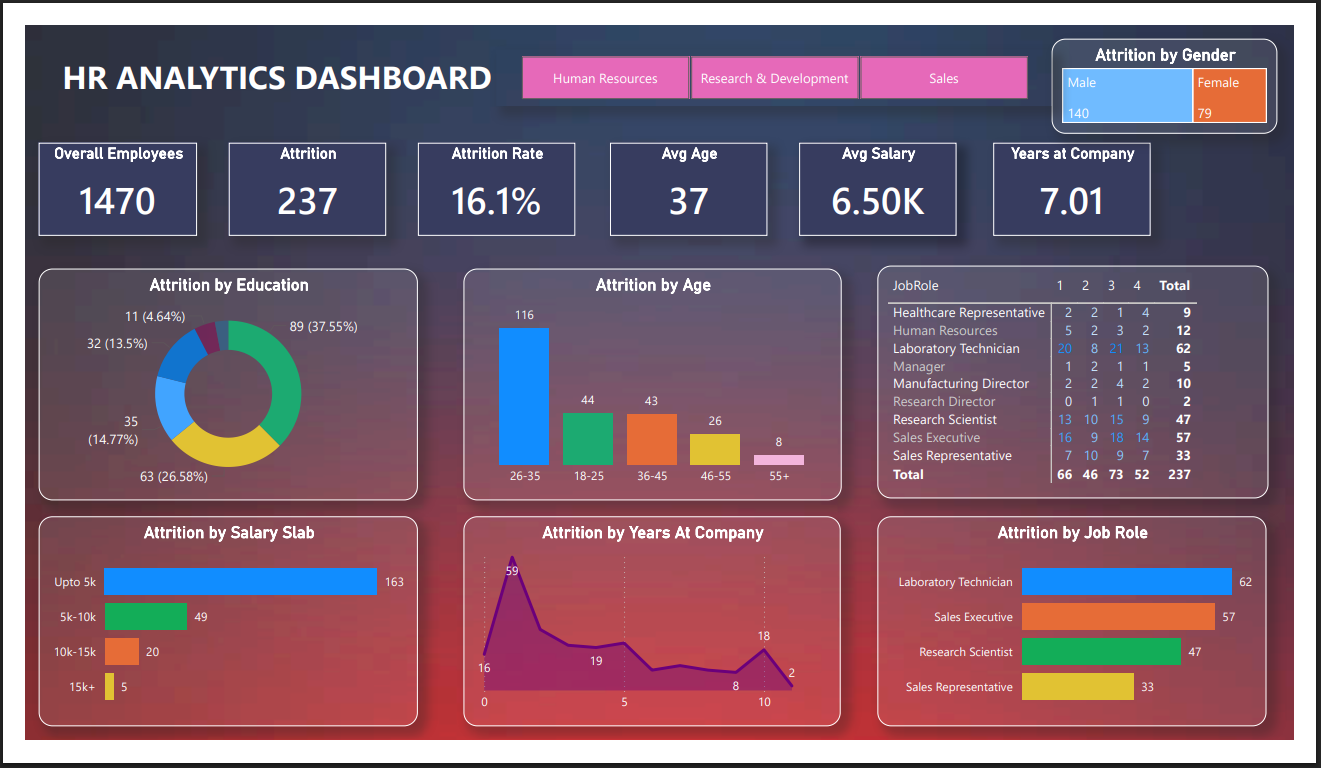

This screenshot's page, from the dashboard's own definition file:
{"tool":"powerbi","page":{"name":"Page 1","canvas":[1280,720],"ordinal":0},"visuals":[{"type":"cardVisual","title":"Overall Employees","fields":{"Data":["CountNonNull(HR_Analytics.EmpID)"]},"box":[13.3,118.2,159.3,94.1],"z":0},{"type":"cardVisual","title":"Attrition","fields":{"Data":["Sum(HR_Analytics.AttritionCount)"]},"box":[205.1,118.2,159.3,94.1],"z":1000},{"type":"cardVisual","title":"Attrition Rate","fields":{"Data":["HR_Analytics.AttritionRate"]},"box":[395.7,118.2,159.3,94.1],"z":2000},{"type":"cardVisual","title":"Avg  Age","fields":{"Data":["Avg(HR_Analytics.Age)"]},"box":[589.9,118.2,159.3,94.1],"z":3000},{"type":"cardVisual","title":"Avg Salary","fields":{"Data":["Avg(HR_Analytics.MonthlyIncome)"]},"box":[780.6,118.2,159.3,94.1],"z":4000},{"type":"cardVisual","title":"Years at Company","fields":{"Data":["Avg(HR_Analytics.YearsAtCompany)"]},"box":[977.2,118.2,159.3,94.1],"z":5000},{"type":"donutChart","title":"Attrition by Education","fields":{"Category":["HR_Analytics.EducationField"],"Y":["Sum(HR_Analytics.AttritionCount)"]},"box":[13.3,244.9,382.4,234],"z":6000},{"type":"columnChart","title":"Attrition by Age","fields":{"Category":["HR_Analytics.AgeGroup"],"Y":["Sum(HR_Analytics.AttritionCount)"]},"box":[441.6,244.9,382.4,234],"z":7000},{"type":"pivotTable","fields":{"Rows":["HR_Analytics.JobRole"],"Columns":["HR_Analytics.JobSatisfaction"],"Values":["Sum(HR_Analytics.AttritionCount)"]},"box":[860.2,242.5,394.5,234],"z":8000},{"type":"barChart","title":"Attrition by Salary Slab","fields":{"Category":["HR_Analytics.SalarySlab"],"Y":["Sum(HR_Analytics.AttritionCount)"]},"box":[13.3,494.6,382.4,212.3],"z":9000},{"type":"barChart","title":"Attrition by Job Role","fields":{"Category":["HR_Analytics.JobRole"],"Y":["Sum(HR_Analytics.AttritionCount)"]},"box":[860.2,494.6,393.3,212.3],"z":10000},{"type":"areaChart","title":"Attrition by Years At Company","fields":{"Category":["HR_Analytics.YearsAtCompany"],"Y":["Sum(HR_Analytics.AttritionCount)"]},"box":[441.6,494.6,381.2,212.3],"z":11000},{"type":"treemap","title":"Attrition by Gender","fields":{"Group":["HR_Analytics.Gender"],"Values":["Sum(HR_Analytics.AttritionCount)"]},"box":[1036.3,13.3,228,95.3],"z":12000},{"type":"slicer","fields":{"Values":["HR_Analytics.Department"]},"box":[475.3,24.1,561,56.7],"z":13000},{"type":"textbox","box":[20.5,24.1,466.9,62.7],"z":14000}]}

Visuals, with their boxes on the page's 1280x720 design canvas (x1, y1, x2, y2). These are canvas units, not pixel positions in the 1321x768 screenshot, which may show the page scaled, cropped or inside an application window:
"Overall Employees" cardVisual: <box>13,118,173,212</box>
"Attrition" cardVisual: <box>205,118,364,212</box>
"Attrition Rate" cardVisual: <box>396,118,555,212</box>
"Avg  Age" cardVisual: <box>590,118,749,212</box>
"Avg Salary" cardVisual: <box>781,118,940,212</box>
"Years at Company" cardVisual: <box>977,118,1136,212</box>
"Attrition by Education" donutChart: <box>13,245,396,479</box>
"Attrition by Age" columnChart: <box>442,245,824,479</box>
pivotTable - HR_Analytics.JobRole x HR_Analytics.JobSatisfaction: <box>860,242,1255,476</box>
"Attrition by Salary Slab" barChart: <box>13,495,396,707</box>
"Attrition by Job Role" barChart: <box>860,495,1254,707</box>
"Attrition by Years At Company" areaChart: <box>442,495,823,707</box>
"Attrition by Gender" treemap: <box>1036,13,1264,109</box>
slicer - HR_Analytics.Department: <box>475,24,1036,81</box>
textbox: <box>20,24,487,87</box>
